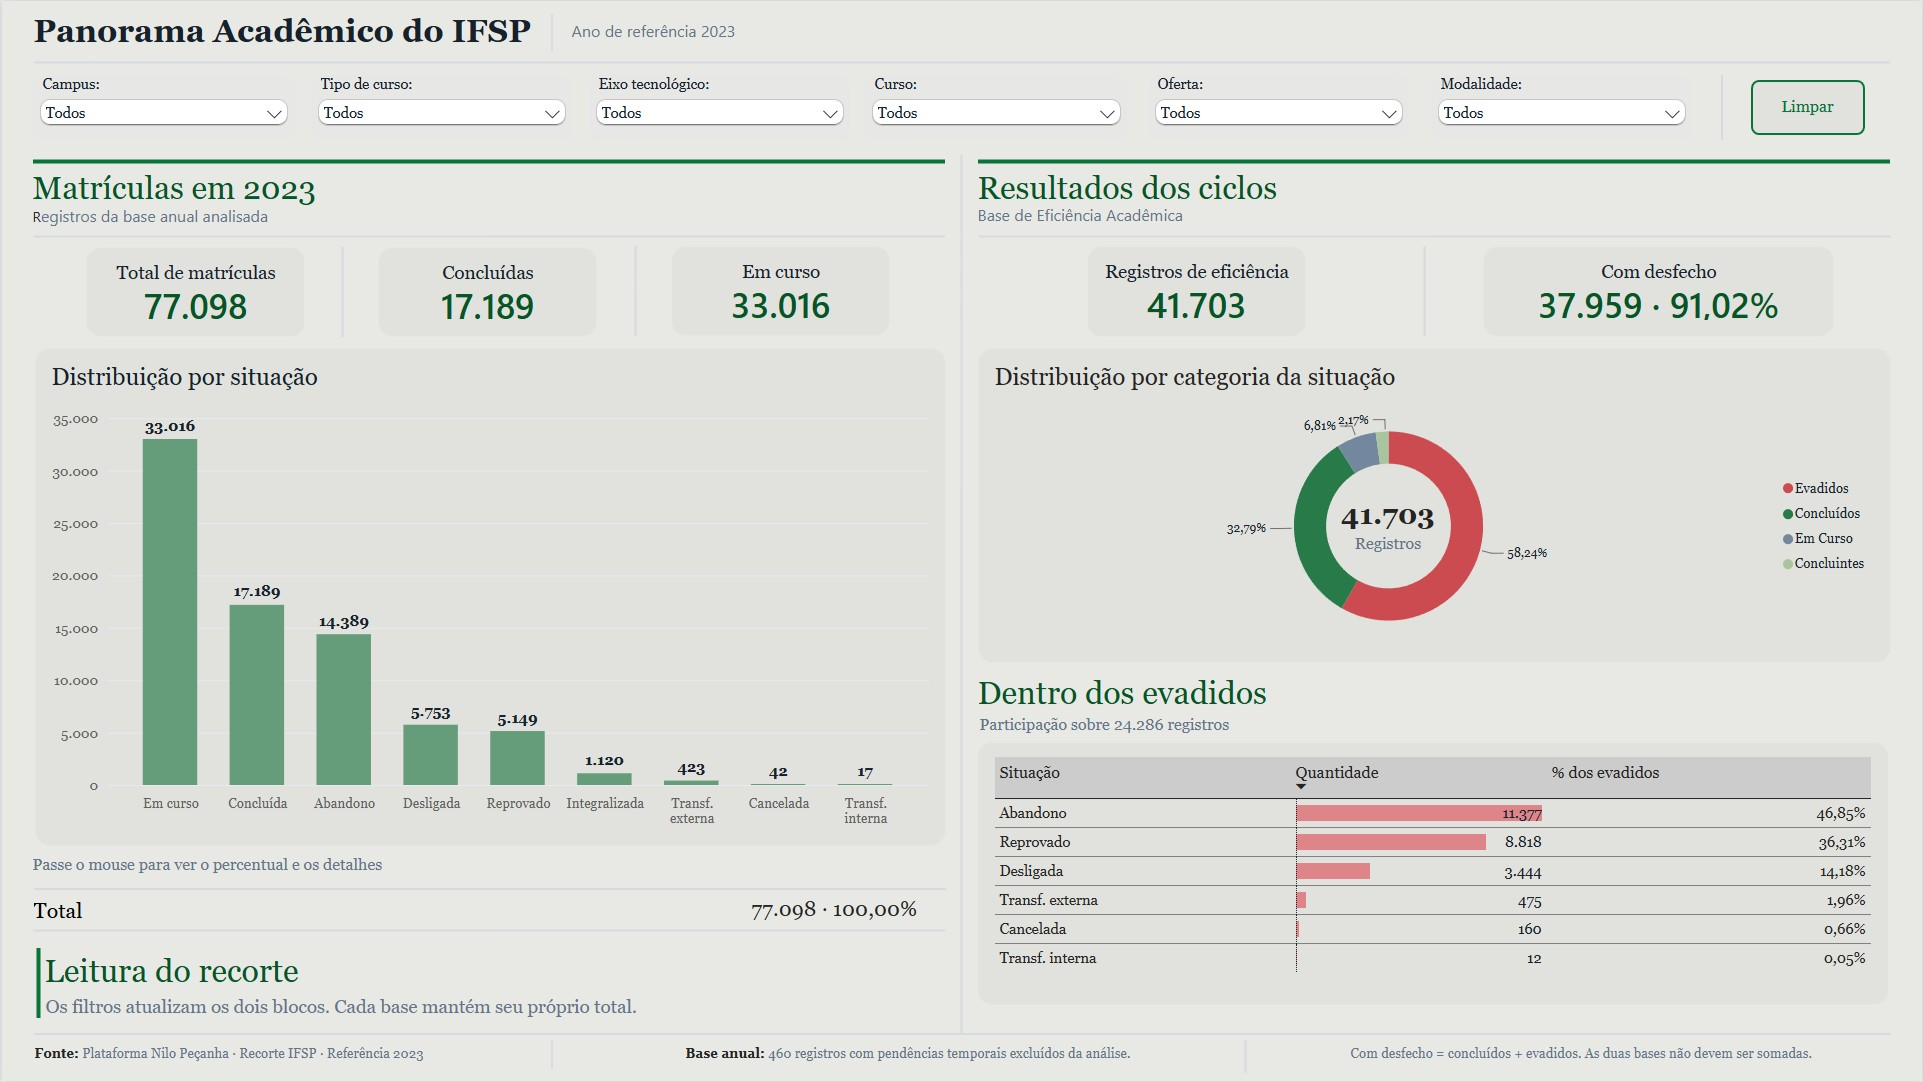

What the dashboard file says about the page in this screenshot:
{"tool":"powerbi","page":{"name":"Dashboard","canvas":[1920,1080],"ordinal":0},"visuals":[{"type":"textbox","box":[31.7,12.5,521.1,38.5],"z":0,"group":"g2"},{"type":"slicer","fields":{"Values":["Dim Campus.unidade_de_ensino"]},"box":[31.5,73.6,260.4,65],"z":0,"group":"g1"},{"type":"group","id":"g1","title":"Filtros","box":[31.5,73.6,1831.2,65.4],"z":0},{"type":"shape","box":[976.1,154.1,911.9,12.8],"z":0,"group":"g4"},{"type":"tableEx","title":"Dentro dos evadidos","fields":{"Values":["Dim Situação.situacao_de_matricula","Métricas.Total de Evadidos — Eficiência","Métricas.Percentual por Situação entre Evadidos — Eficiência"]},"box":[975.5,741.3,912,262.9],"z":0,"group":"g5"},{"type":"textbox","box":[28.6,853.7,363.5,27.9],"z":0,"group":"g3"},{"type":"textbox","box":[43.6,952.2,303.6,43.2],"z":0,"group":"g6"},{"type":"shape","box":[31.7,1027.4,1856.6,12.5],"z":0,"group":"g7"},{"type":"textbox","box":[569.7,19.6,185,28.8],"z":1000,"group":"g2"},{"type":"slicer","fields":{"Values":["Dim Tipo de Curso.tipo_de_curso"]},"box":[309.4,73.6,260.4,65],"z":1000,"group":"g1"},{"type":"shape","box":[28.9,153.7,911.9,12.8],"z":1000,"group":"g3"},{"type":"shape","box":[976.3,223.7,911.9,23.4],"z":1000,"group":"g4"},{"type":"textbox","box":[976.7,674.3,323.4,43.2],"z":1000,"group":"g5"},{"type":"textbox","box":[44,995,616,23],"z":1000,"group":"g6"},{"type":"textbox","box":[32.8,1042.3,406.7,24.9],"z":1000,"group":"g7"},{"type":"shape","box":[543.5,13.6,12.1,37.2],"z":2000,"group":"g2"},{"type":"slicer","fields":{"Values":["Dim Eixo.eixo_tecnologico"]},"box":[587.3,73.6,260.4,65],"z":2000,"group":"g1"},{"type":"textbox","box":[29,168.2,303.6,43.2],"z":2000,"group":"g3"},{"type":"textbox","box":[975.6,169,323.4,43.2],"z":2000,"group":"g4"},{"type":"cardVisual","fields":{"Data":["Métricas.Subtítulo — Evadidos"]},"box":[962.2,709.4,293.2,29],"z":2000,"group":"g5"},{"type":"shape","box":[31.2,946.7,11.1,70.2],"z":2000,"group":"g6"},{"type":"textbox","box":[684.2,1042.3,481.4,24.9],"z":2000,"group":"g7"},{"type":"shape","box":[31.6,50.2,1856.1,23.2],"z":3000,"group":"g2"},{"type":"slicer","fields":{"Values":["Dim Curso.nome_de_curso"]},"box":[864,73.6,260.4,65],"z":3000,"group":"g1"},{"type":"shape","title":"Divisão de gráficos","box":[951.5,154.1,15.9,880.1],"z":3000},{"type":"textbox","box":[29,203.3,260.4,25.7],"z":3000,"group":"g3"},{"type":"textbox","box":[975.6,203.5,260.4,25.7],"z":3000,"group":"g4"},{"type":"textbox","box":[32.4,897.1,59.8,28.7],"z":3000,"group":"g6"},{"type":"textbox","box":[1349.1,1042.1,482.5,24.9],"z":3000,"group":"g7"},{"type":"slicer","fields":{"Values":["Dim Oferta.tipo_de_oferta"]},"box":[1146.5,73.6,260.4,65],"z":4000,"group":"g1"},{"type":"shape","box":[29.2,223.3,911.9,23.4],"z":4000,"group":"g3"},{"type":"card","title":"Registros de eficiência","fields":{"Values":["Métricas.Total de Registro de Eficiência"]},"box":[1084.1,245,219.5,90.9],"z":4000,"group":"g4"},{"type":"shape","box":[31.2,923.3,912.1,12.3],"z":4000,"group":"g6"},{"type":"shape","box":[543.7,1039.9,12.5,28.3],"z":4000,"group":"g7"},{"type":"group","id":"g2","title":"Cabeçalho","box":[31.6,12.5,1856.1,61],"z":5000},{"type":"slicer","fields":{"Values":["Dim Modalidade.modalidade_de_ensino"]},"box":[1429.1,73.6,260.4,65],"z":5000,"group":"g1"},{"type":"card","title":"Com desfecho","fields":{"Values":["Métricas.Com Desfecho — Cartão"]},"box":[1481,245,350.3,90.9],"z":5000,"group":"g4"},{"type":"card","title":"Total de matrículas","fields":{"Values":["Métricas.Total de Matrículas"]},"box":[81.3,245.3,218.8,90.6],"z":5000,"group":"g3"},{"type":"shape","box":[32.3,882,912.1,12.3],"z":5000,"group":"g6"},{"type":"shape","box":[1236.9,1039.9,12.5,32.8],"z":5000,"group":"g7"},{"type":"shape","box":[1702.3,73.6,33.9,65.4],"z":5500,"group":"g1"},{"type":"actionButton","box":[1748,78.5,114.6,54.8],"z":6000,"group":"g1"},{"type":"group","id":"g3","title":"Gráfico de colunas","box":[28.6,153.7,912.9,728.2],"z":6000},{"type":"card","title":"Concluídas","fields":{"Values":["Métricas.Matrículas Concluídas"]},"box":[373.5,245.3,218.8,90.6],"z":6000,"group":"g3"},{"type":"donutChart","title":"Distribuição por categoria da situação","fields":{"Category":["Dim Situação.categoria_da_situacao"],"Y":["Métricas.Total de Registro de Eficiência"]},"box":[975.6,346.7,913.2,315.5],"z":6000,"group":"g4"},{"type":"cardVisual","fields":{"Data":["Métricas.Total — Rodapé"]},"box":[733.8,889.7,209.3,34.9],"z":6000,"group":"g6"},{"type":"group","id":"g4","title":"Gráfico de Rosca","box":[975.6,154.1,913.2,508.2],"z":7000},{"type":"card","title":"Em curso","fields":{"Values":["Métricas.Matrículas em Curso"]},"box":[666.7,244.6,218.8,90.6],"z":7000,"group":"g3"},{"type":"shape","box":[1415.6,245,12.9,90.6],"z":7000,"group":"g4"},{"type":"shape","box":[329.3,245.3,17.2,90.6],"z":8000,"group":"g3"},{"type":"group","id":"g5","title":"Gráfico Evadidos","box":[962.2,674.3,925.4,329.9],"z":8000},{"type":"shape","box":[624.6,244.6,12.9,90.6],"z":9000,"group":"g3"},{"type":"group","id":"g6","title":"Informações","box":[31.2,882,913.2,136],"z":9000},{"type":"clusteredColumnChart","title":"Distribuição por situação","fields":{"Category":["Dim Situação.situacao_de_matricula"],"Y":["Métricas.Total de Matrículas"]},"box":[30.2,346.3,910.9,498.1],"z":10000,"group":"g3"},{"type":"group","id":"g7","title":"Rodapé","box":[31.7,1027.4,1856.6,45.3],"z":10000}]}

Visuals, with their boxes in screenshot pixels (x1, y1, x2, y2), scaled from the page's 1920x1080 canvas onto the 1923x1082 screenshot:
textbox: {"left": 32, "top": 13, "right": 554, "bottom": 51}
slicer - Dim Campus.unidade_de_ensino: {"left": 32, "top": 74, "right": 292, "bottom": 139}
"Filtros" group: {"left": 32, "top": 74, "right": 1866, "bottom": 139}
shape: {"left": 978, "top": 154, "right": 1891, "bottom": 167}
"Dentro dos evadidos" tableEx: {"left": 977, "top": 743, "right": 1890, "bottom": 1006}
textbox: {"left": 29, "top": 855, "right": 393, "bottom": 883}
textbox: {"left": 44, "top": 954, "right": 348, "bottom": 997}
shape: {"left": 32, "top": 1029, "right": 1891, "bottom": 1042}
textbox: {"left": 571, "top": 20, "right": 756, "bottom": 48}
slicer - Dim Tipo de Curso.tipo_de_curso: {"left": 310, "top": 74, "right": 571, "bottom": 139}
shape: {"left": 29, "top": 154, "right": 942, "bottom": 167}
shape: {"left": 978, "top": 224, "right": 1891, "bottom": 248}
textbox: {"left": 978, "top": 676, "right": 1302, "bottom": 719}
textbox: {"left": 44, "top": 997, "right": 661, "bottom": 1020}
textbox: {"left": 33, "top": 1044, "right": 440, "bottom": 1069}
shape: {"left": 544, "top": 14, "right": 556, "bottom": 51}
slicer - Dim Eixo.eixo_tecnologico: {"left": 588, "top": 74, "right": 849, "bottom": 139}
textbox: {"left": 29, "top": 169, "right": 333, "bottom": 212}
textbox: {"left": 977, "top": 169, "right": 1301, "bottom": 213}
cardVisual - Métricas.Subtítulo — Evadidos: {"left": 964, "top": 711, "right": 1257, "bottom": 740}
shape: {"left": 31, "top": 948, "right": 42, "bottom": 1019}
textbox: {"left": 685, "top": 1044, "right": 1167, "bottom": 1069}
shape: {"left": 32, "top": 50, "right": 1891, "bottom": 74}
slicer - Dim Curso.nome_de_curso: {"left": 865, "top": 74, "right": 1126, "bottom": 139}
"Divisão de gráficos" shape: {"left": 953, "top": 154, "right": 969, "bottom": 1036}
textbox: {"left": 29, "top": 204, "right": 290, "bottom": 229}
textbox: {"left": 977, "top": 204, "right": 1238, "bottom": 230}
textbox: {"left": 32, "top": 899, "right": 92, "bottom": 928}
textbox: {"left": 1351, "top": 1044, "right": 1834, "bottom": 1069}
slicer - Dim Oferta.tipo_de_oferta: {"left": 1148, "top": 74, "right": 1409, "bottom": 139}
shape: {"left": 29, "top": 224, "right": 943, "bottom": 247}
"Registros de eficiência" card: {"left": 1086, "top": 245, "right": 1306, "bottom": 337}
shape: {"left": 31, "top": 925, "right": 945, "bottom": 937}
shape: {"left": 545, "top": 1042, "right": 557, "bottom": 1070}
"Cabeçalho" group: {"left": 32, "top": 13, "right": 1891, "bottom": 74}
slicer - Dim Modalidade.modalidade_de_ensino: {"left": 1431, "top": 74, "right": 1692, "bottom": 139}
"Com desfecho" card: {"left": 1483, "top": 245, "right": 1834, "bottom": 337}
"Total de matrículas" card: {"left": 81, "top": 246, "right": 301, "bottom": 337}
shape: {"left": 32, "top": 884, "right": 946, "bottom": 896}
shape: {"left": 1239, "top": 1042, "right": 1251, "bottom": 1075}
shape: {"left": 1705, "top": 74, "right": 1739, "bottom": 139}
actionButton: {"left": 1751, "top": 79, "right": 1866, "bottom": 134}
"Gráfico de colunas" group: {"left": 29, "top": 154, "right": 943, "bottom": 884}
"Concluídas" card: {"left": 374, "top": 246, "right": 593, "bottom": 337}
"Distribuição por categoria da situação" donutChart: {"left": 977, "top": 347, "right": 1892, "bottom": 663}
cardVisual - Métricas.Total — Rodapé: {"left": 735, "top": 891, "right": 945, "bottom": 926}
"Gráfico de Rosca" group: {"left": 977, "top": 154, "right": 1892, "bottom": 664}
"Em curso" card: {"left": 668, "top": 245, "right": 887, "bottom": 336}
shape: {"left": 1418, "top": 245, "right": 1431, "bottom": 336}
shape: {"left": 330, "top": 246, "right": 347, "bottom": 337}
"Gráfico Evadidos" group: {"left": 964, "top": 676, "right": 1891, "bottom": 1006}
shape: {"left": 626, "top": 245, "right": 638, "bottom": 336}
"Informações" group: {"left": 31, "top": 884, "right": 946, "bottom": 1020}
"Distribuição por situação" clusteredColumnChart: {"left": 30, "top": 347, "right": 943, "bottom": 846}
"Rodapé" group: {"left": 32, "top": 1029, "right": 1891, "bottom": 1075}
